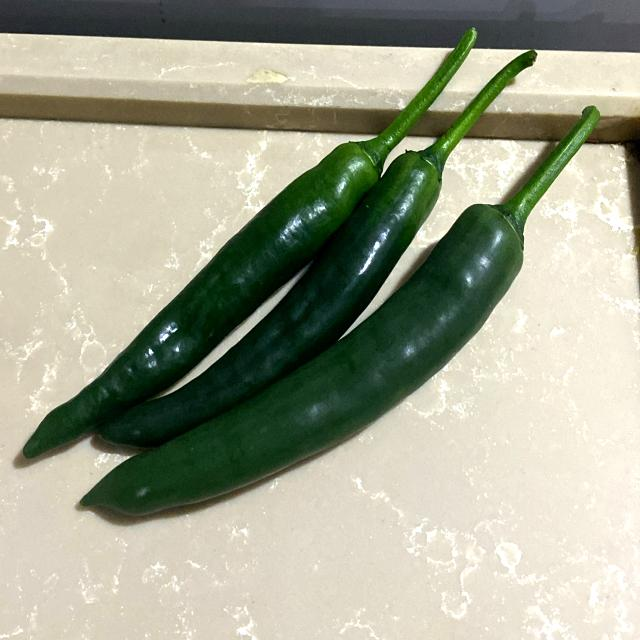green pepper: (79, 100, 619, 522), (20, 21, 489, 462), (93, 42, 554, 457)
